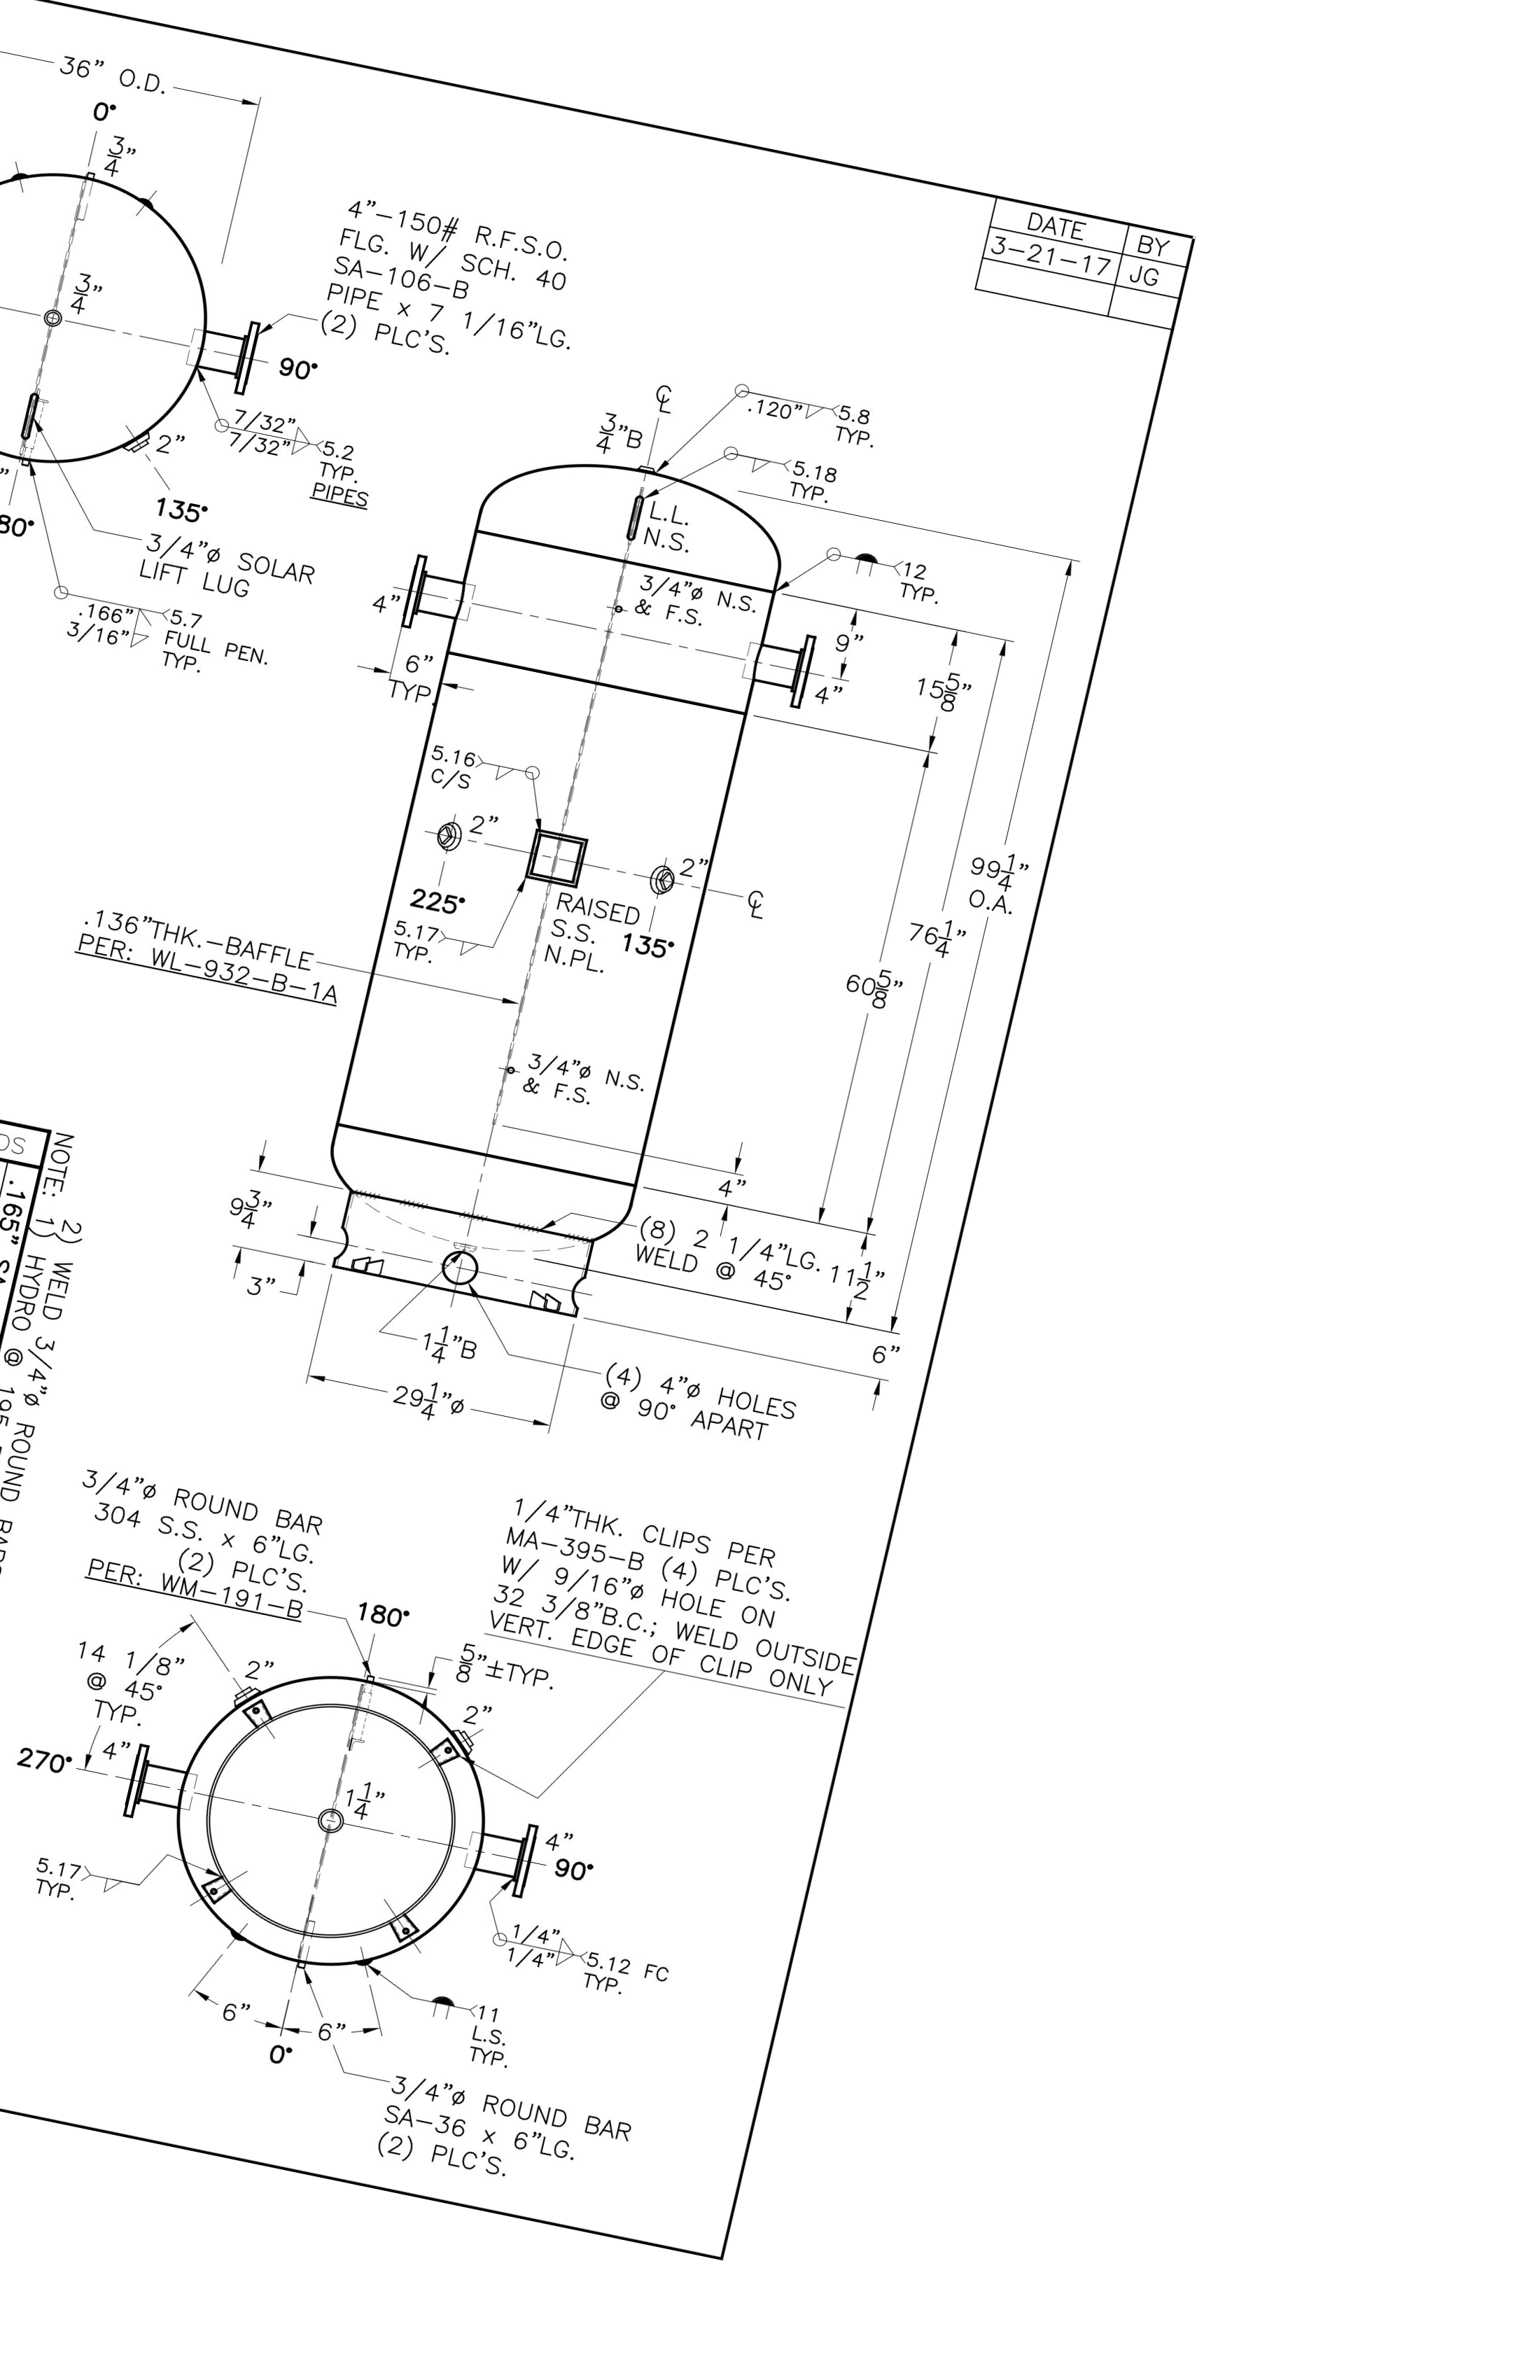Nozzle: (88, 1688, 210, 1847), (369, 538, 501, 677), (454, 1778, 565, 1931), (746, 605, 853, 741), (192, 305, 284, 409)
